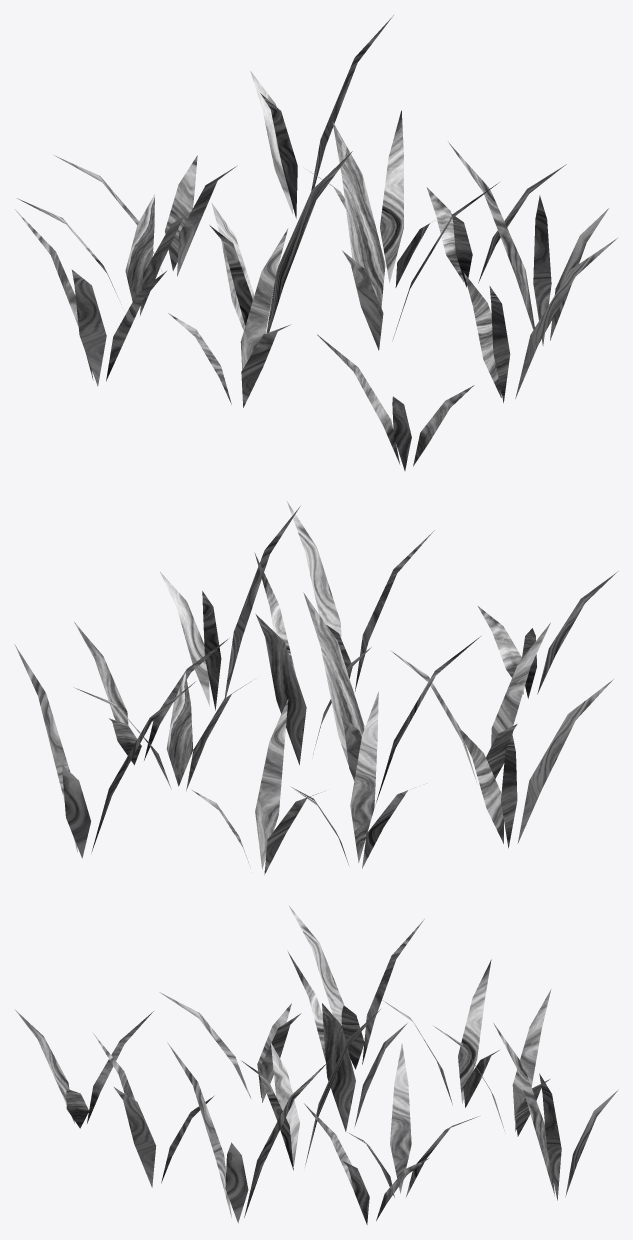
The model's file is SM_Grass_Big.fbx.
The picture shows the model from 3 angles, top to bottom: view 1: azimuth 30°, elevation 25°; view 2: azimuth 150°, elevation 25°; view 3: azimuth 270°, elevation 25°; orthographic projection. The views are drawn at different scales.
Parts seen in each view (by area): view 1: SM_Grass_Big_LOD0; view 2: SM_Grass_Big_LOD0; view 3: SM_Grass_Big_LOD0.
Part boxes in pixels (bbox=[...]): SM_Grass_Big_LOD0: bbox=[15, 15, 618, 470]; SM_Grass_Big_LOD0: bbox=[14, 501, 618, 874]; SM_Grass_Big_LOD0: bbox=[15, 906, 618, 1224].
Size of the model in its own units: 105 by 123 by 36.2.
1 material, 1 textured.
